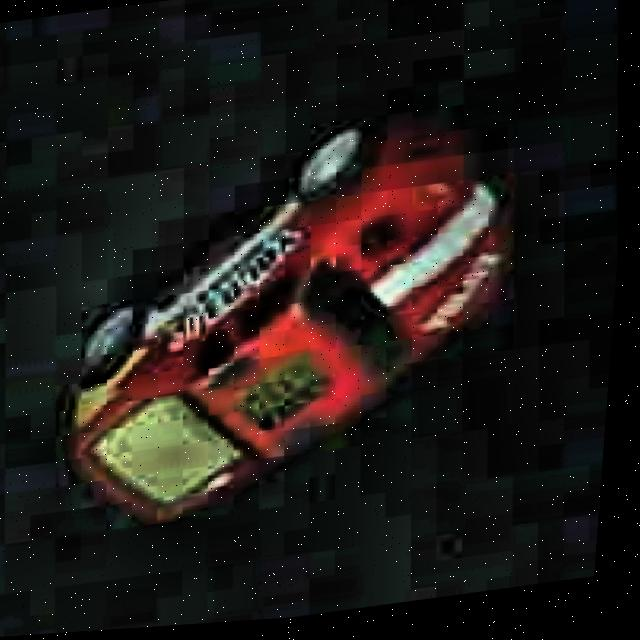car: (34, 93, 541, 545)
